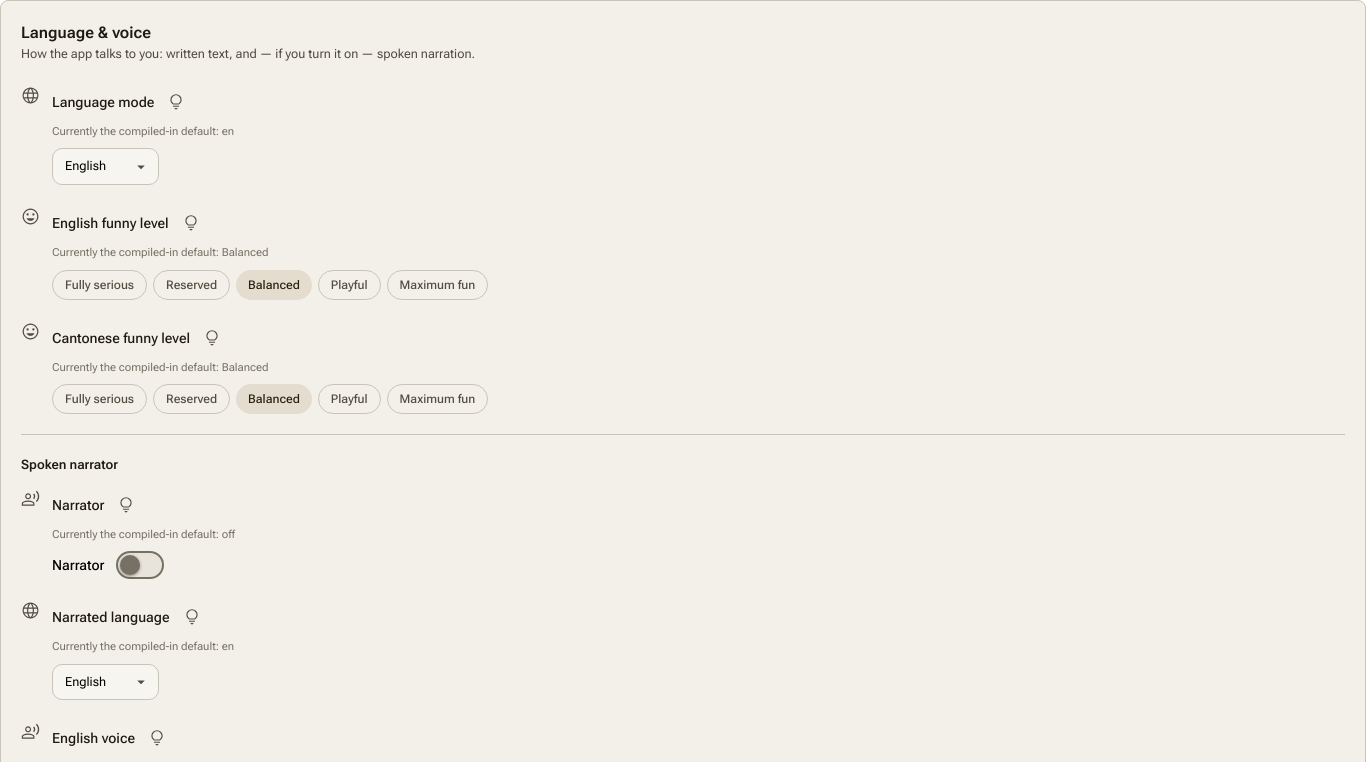
it: LanguageVoiceCard: funny level controls › lowering the Cantonese level to Fully serious leaves the English level untouched
// The Cantonese group's chip is the second one in document order.
Click the button "Fully serious" below "Cantonese funny level": (100, 399) 52,384 -> 147,414
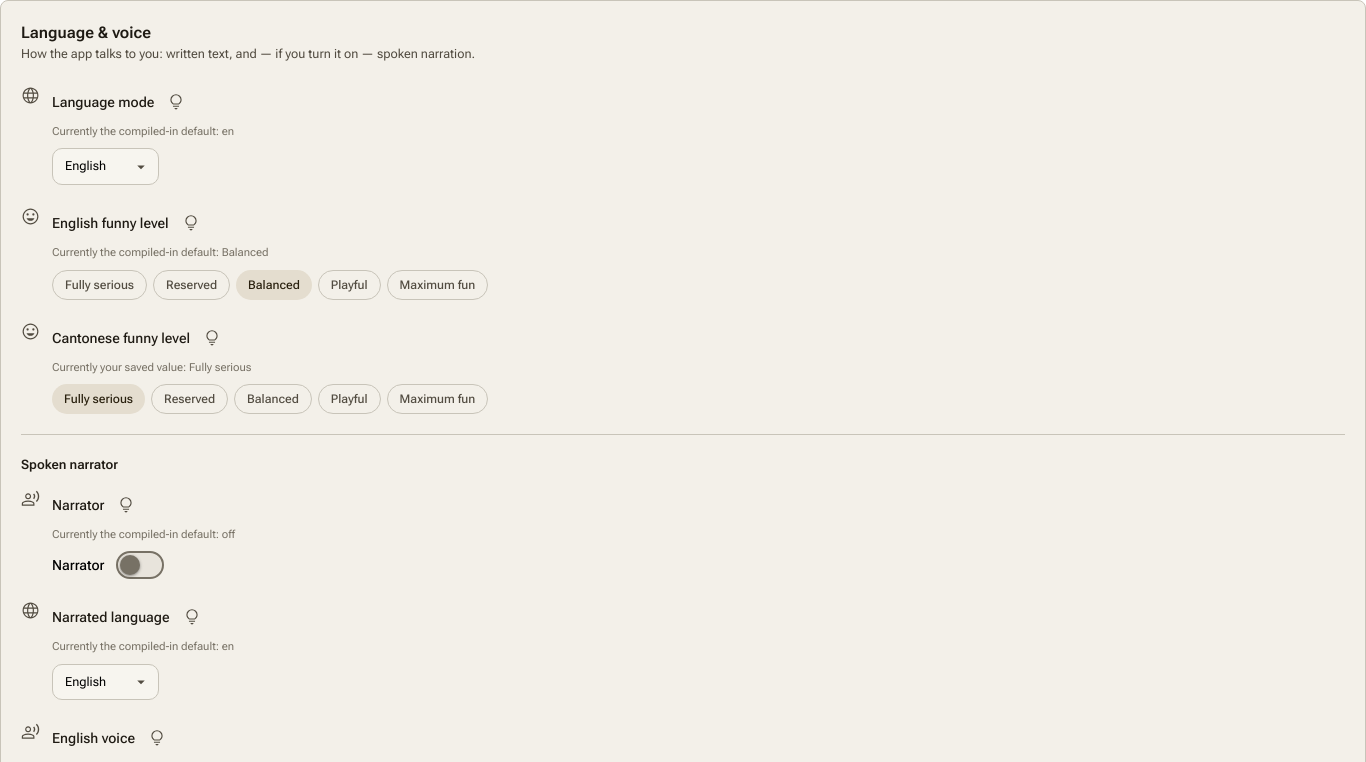
expect the text "English funny level" shows "Currently the compiled-in default: Balanced": met, box 52,246 -> 268,259
expect the text "Cantonese funny level" shows "Currently your saved value: Fully serious": met, box 52,360 -> 252,374
